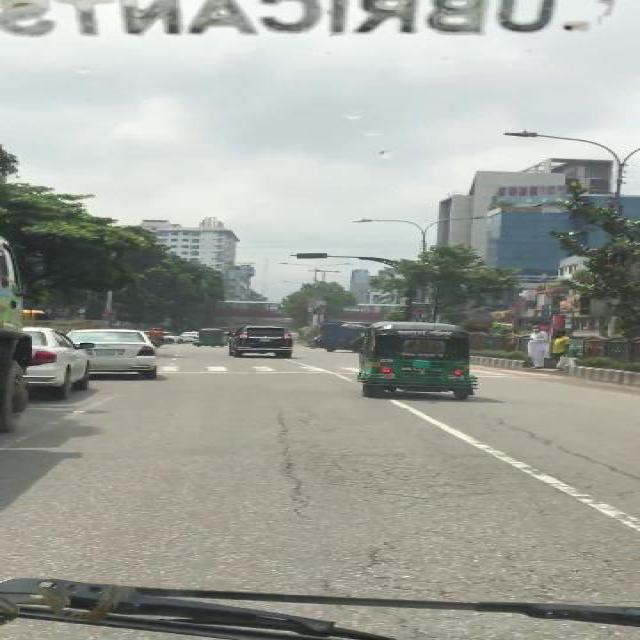car: (27, 328, 92, 400), (64, 328, 156, 373), (224, 323, 293, 359)
motorcycle: (352, 318, 480, 403), (196, 327, 222, 347), (567, 338, 585, 358)
truck: (318, 320, 361, 353)
